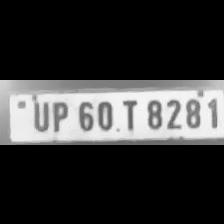0: (94, 96, 116, 130)
1: (204, 94, 222, 128)
2: (163, 95, 183, 129)
6: (74, 97, 94, 131)
8: (142, 95, 162, 129), (182, 96, 202, 128)
P: (50, 98, 70, 132)
T: (116, 96, 140, 130)
U: (28, 97, 50, 131)
